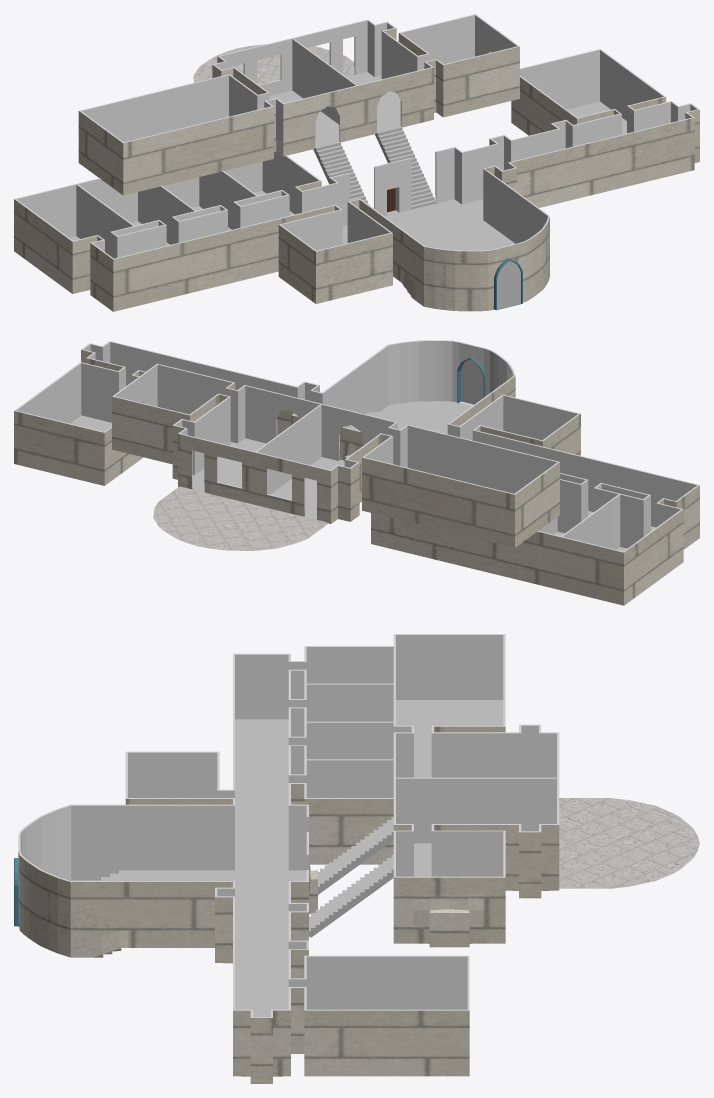
The model's file is Academia.fbx.
3 views of the same model, one above another, from view 1: azimuth 30°, elevation 25°; view 2: azimuth 150°, elevation 25°; view 3: azimuth 270°, elevation 25° (orthographic). The views are drawn at different scales.
Visible parts, largest first — view 1: edificio, edificio.001, edificio.002, Cube.003, edificio.003, Cube.005, Plane.005; view 2: edificio, edificio.003, edificio.002, edificio.001, Plane.005; view 3: edificio, edificio.003, edificio.001, edificio.002, Cube.003, Cube.005.
Boxes of the visible parts, x1,y1,x2,y2 form: edificio: (14, 14, 699, 311); edificio.001: (76, 170, 257, 255); edificio.002: (292, 38, 357, 124); Cube.003: (375, 126, 436, 209); edificio.003: (193, 44, 354, 84); Cube.005: (313, 141, 369, 204); Plane.005: (497, 260, 520, 309); edificio: (14, 340, 699, 605); edificio.003: (153, 486, 328, 550); edificio.002: (255, 404, 321, 494); edificio.001: (538, 494, 620, 549); Plane.005: (461, 359, 483, 404); edificio: (16, 634, 559, 1083); edificio.003: (559, 798, 699, 888); edificio.001: (306, 683, 426, 797); edificio.002: (396, 777, 556, 843); Cube.003: (309, 854, 393, 937); Cube.005: (318, 817, 393, 894).
Size of the model in its own units: 4925 by 868 by 3837.
